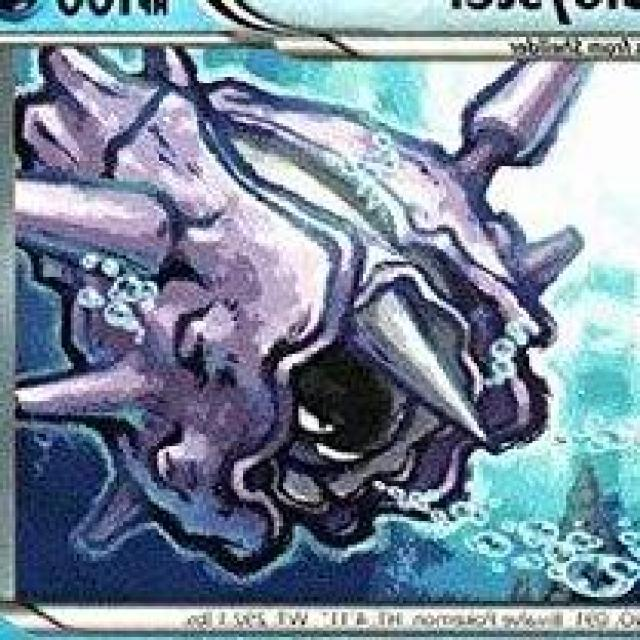Cloyster: (19, 66, 589, 560)
